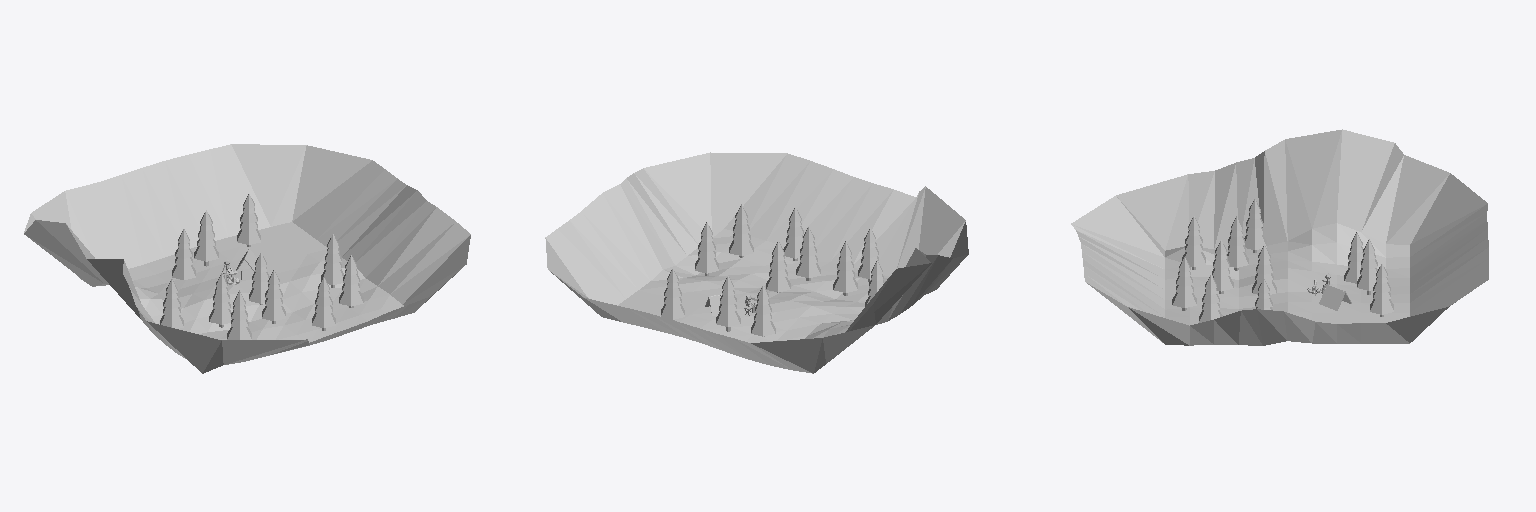
Rendered from campsite.obj.
The picture shows the model from 3 angles: view 1: azimuth 30°, elevation 25°; view 2: azimuth 150°, elevation 25°; view 3: azimuth 270°, elevation 25°; orthographic projection.
Parts seen in each view (by area): view 1: floor4; view 2: floor4; view 3: floor4.
Part boxes in pixels (x1,y1,x2,y2): floor4: (24,144,470,373); floor4: (545,152,968,373); floor4: (1071,129,1488,345).
Size of the model in its own units: 16.04 by 4.4 by 17.08.